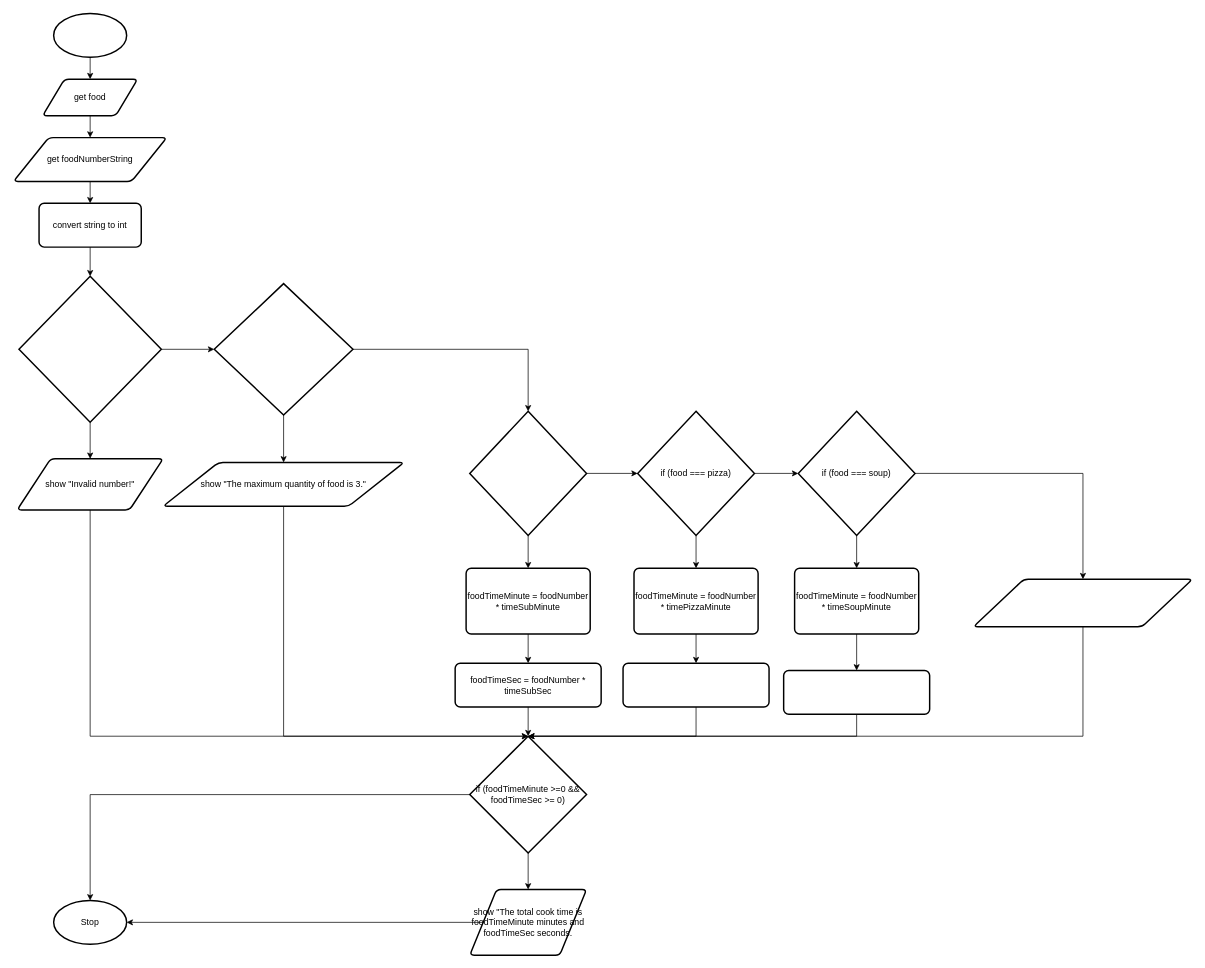
This 1205x968 diagram has some shape labels left out. The shapes that lost their labels are listed below. From the top down, each one's centre as x and y in pixels, then its label:
the point at 90,35: Start
the point at 90,349: if (isNaN(foodNumber))
the point at 283,349: if (foodNumber > 3)
the point at 528,473: if (food === sub)
the point at 1082,602: show "Please choose a food in options!"
the point at 695,684: foodTimeSec = foodNumber * timePizzaSec
the point at 856,692: foodTimeSec = foodNumber * timeSoupSec
